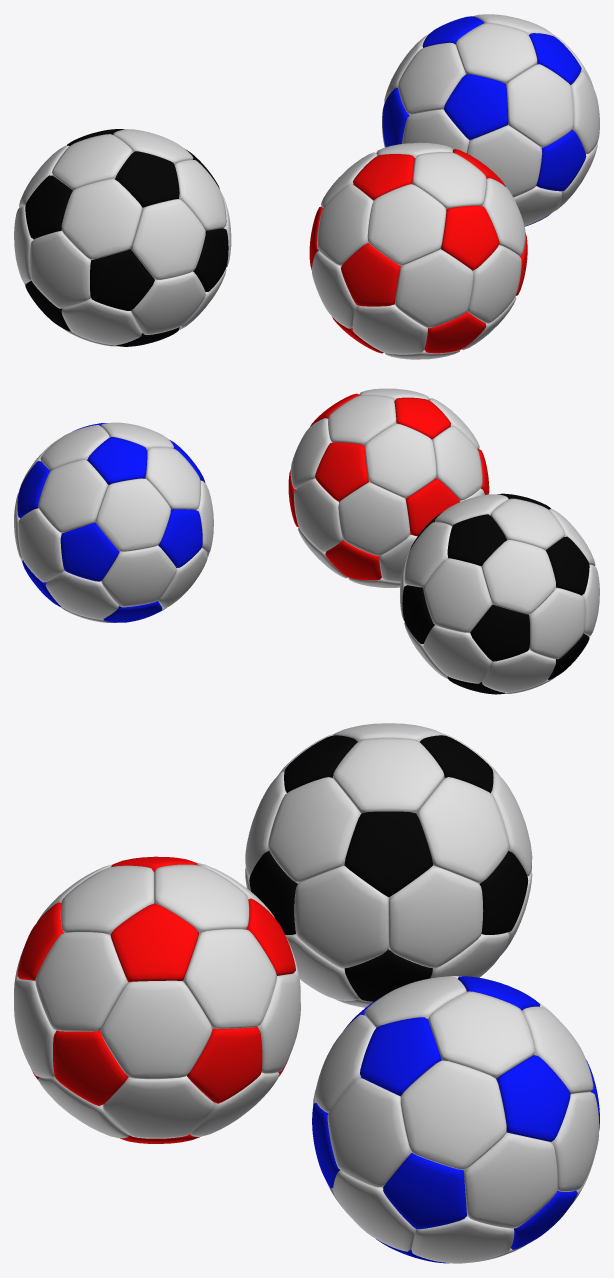
The model's file is ball.FBX.
3 renders of one model, top to bottom at view 1: azimuth 30°, elevation 25°; view 2: azimuth 150°, elevation 25°; view 3: azimuth 270°, elevation 25°, orthographic. The views are drawn at different scales.
Parts seen in each view (by area): view 1: Hedra003, Hedra002, Hedra001; view 2: Hedra001, Hedra003, Hedra002; view 3: Hedra001, Hedra002, Hedra003.
Boxes of the visible parts, x1,y1,x2,y2 form: Hedra003: (14,129,231,346); Hedra002: (309,142,527,359); Hedra001: (382,14,599,226); Hedra001: (14,422,213,622); Hedra003: (400,493,599,694); Hedra002: (288,388,489,587); Hedra001: (312,976,599,1263); Hedra002: (14,856,300,1143); Hedra003: (245,723,532,1007).
Size of the model in its own units: 139 by 45.24 by 92.1.
